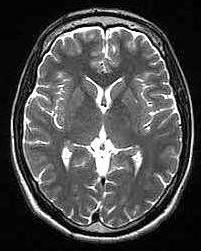Normal_Brain: (7, 3, 201, 251)
